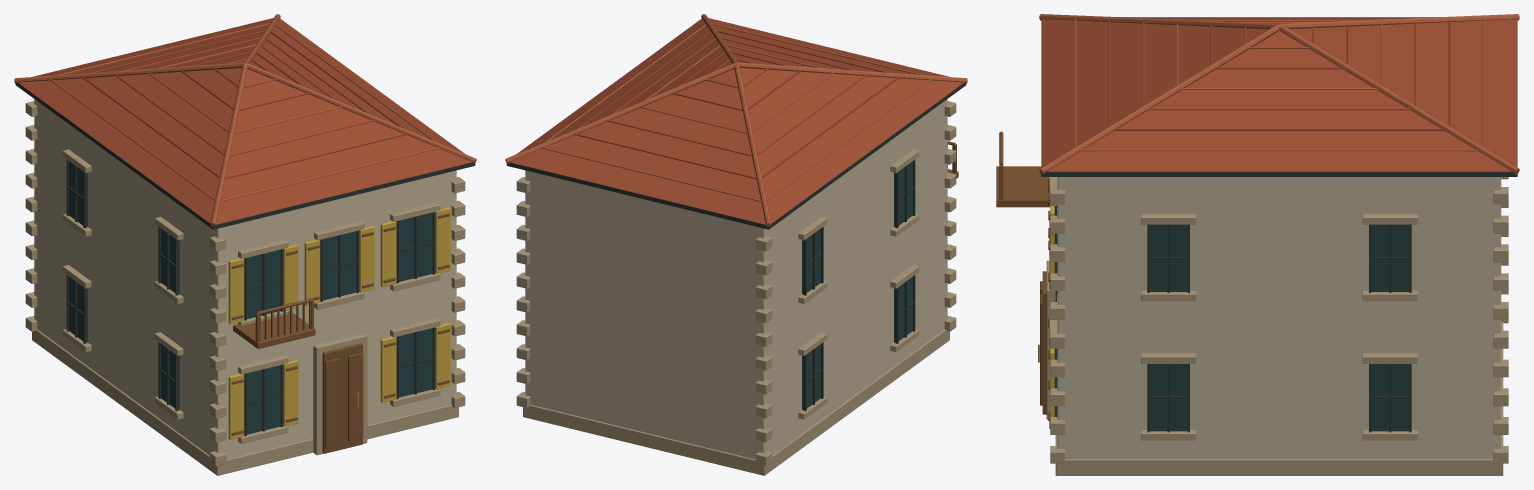
Rendered from house_b.glb.
3 renders of one model, left to right at view 1: azimuth 30°, elevation 25°; view 2: azimuth 150°, elevation 25°; view 3: azimuth 270°, elevation 25°, orthographic. The views are drawn at different scales.
Visible parts, largest first — view 1: house; view 2: house; view 3: house.
Boxes of the visible parts, x1=… form: house: x1=14, y1=14, x2=476, y2=475; house: x1=505, y1=14, x2=967, y2=475; house: x1=996, y1=14, x2=1519, y2=475.
Size of the model in its own units: 7.36 by 8.35 by 10.39.
